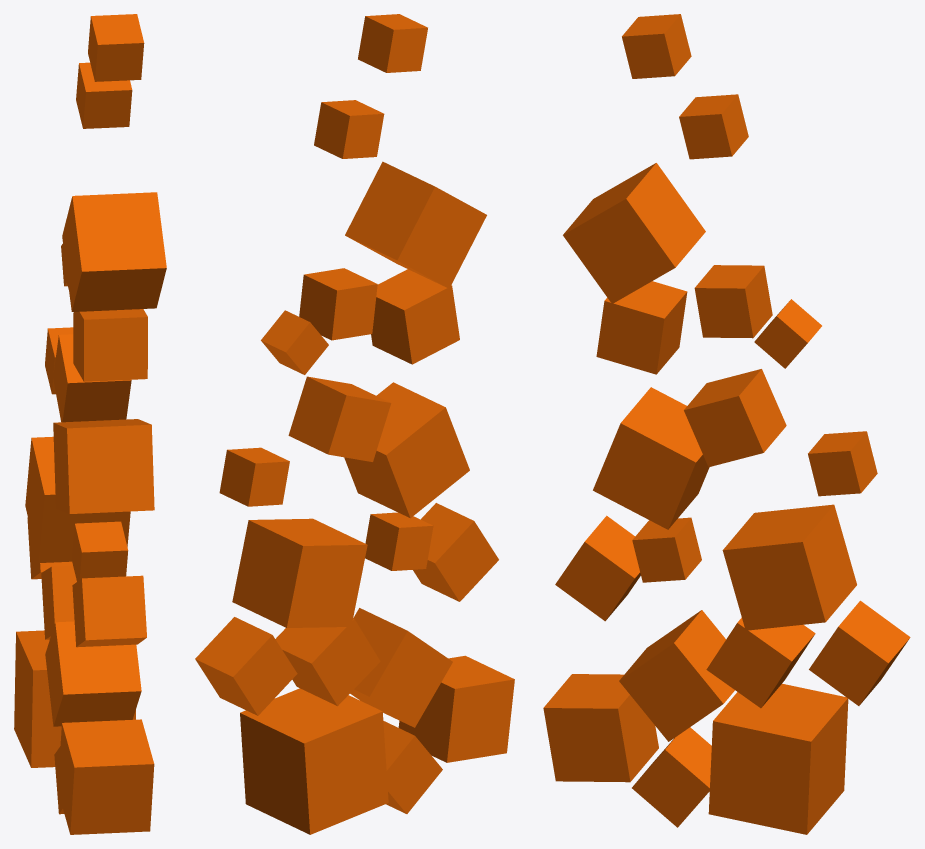
File: flower.fbx
3 views of the same model, side by side, from view 1: azimuth 30°, elevation 25°; view 2: azimuth 150°, elevation 25°; view 3: azimuth 270°, elevation 25° (orthographic). The views are drawn at different scales.
Visible parts, largest first — view 1: Cube.080; view 2: Cube.080; view 3: Cube.080.
Boxes of the visible parts, bbox=[...] form: Cube.080: bbox=[14, 14, 166, 834]; Cube.080: bbox=[195, 14, 514, 834]; Cube.080: bbox=[543, 14, 910, 834].
Bounding box in the file's own units: 7.09 × 31.42 × 13.05.
